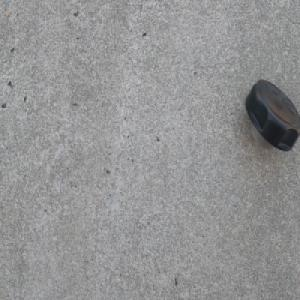FuelCap: (244, 77, 300, 153)
